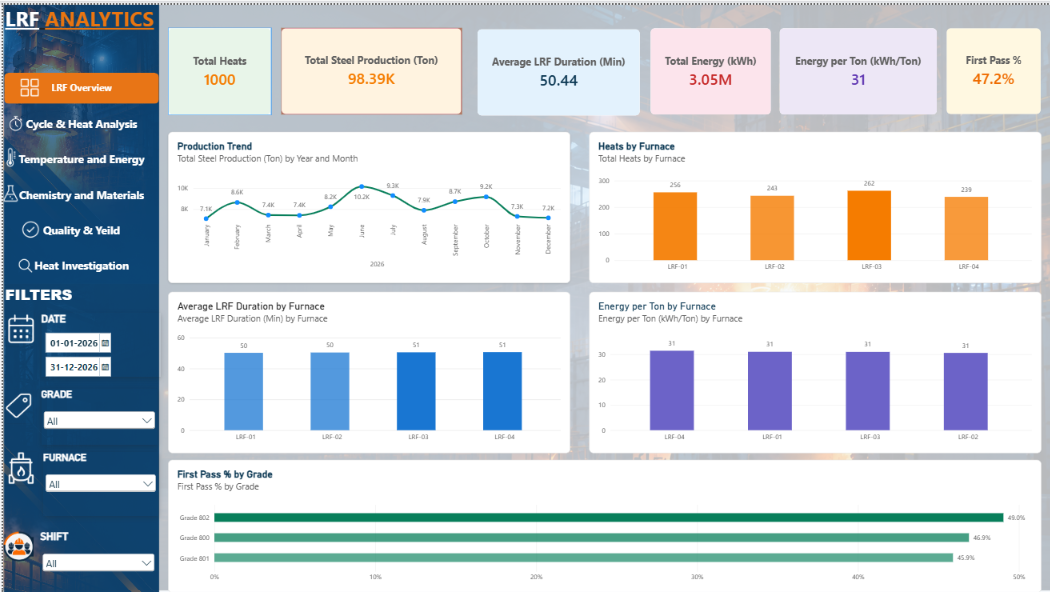

The dashboard page shown, as its layout file describes it:
{"tool":"powerbi","page":{"name":"LRF Overview","canvas":[1920,1080],"ordinal":0},"visuals":[{"type":"cardVisual","fields":{"Data":["Measures (2).Total Heats"]},"box":[303.4,42.3,189.4,160],"z":0},{"type":"cardVisual","fields":{"Data":["Measures (2).Total Steel Production (Ton)"]},"box":[509.9,42.2,332,159.6],"z":1000},{"type":"cardVisual","fields":{"Data":["Measures (2).Average LRF Duration (Min)"]},"box":[869.4,44,299.8,160],"z":2000},{"type":"cardVisual","fields":{"Data":["Measures (2).Total Energy (kWh)"]},"box":[1186.8,42.2,222.5,160],"z":3000},{"type":"cardVisual","fields":{"Data":["Measures (2).Energy per Ton (kWh/Ton)"]},"box":[1423.4,42.2,290.6,160],"z":4000},{"type":"cardVisual","fields":{"Data":["Measures (2).First Pass %"]},"box":[1729.7,42.2,174.3,159.6],"z":5000},{"type":"lineChart","title":"Production Trend","fields":{"Category":["Dim_Date.Date.Variation.Date Hierarchy.Year","Dim_Date.Date.Variation.Date Hierarchy.Month"],"Y":["Measures (2).Total Steel Production (Ton)"]},"box":[303.4,233.6,737.5,277.7],"z":6000},{"type":"clusteredColumnChart","title":"Heats by Furnace","fields":{"Category":["Dim_Furnance.Furnace"],"Y":["Measures (2).Total Heats"]},"box":[1074,233.6,829.4,277.7],"z":7000},{"type":"clusteredColumnChart","title":"Average LRF Duration by Furnace","fields":{"Category":["Dim_Furnance.Furnace"],"Y":["Measures (2).Average LRF Duration (Min)"]},"box":[303.4,526,737.5,296.1],"z":8000},{"type":"clusteredColumnChart","title":"Energy per Ton by Furnace","fields":{"Category":["Dim_Furnance.Furnace"],"Y":["Measures (2).Energy per Ton (kWh/Ton)"]},"box":[1074,526,829.4,296.1],"z":9000},{"type":"clusteredBarChart","title":"First Pass % by Grade","fields":{"Category":["DIm_Grade.Grade"],"Y":["Measures (2).First Pass %"]},"box":[302.7,834.6,1601.3,245.8],"z":10000},{"type":"textbox","box":[1.8,0,284.1,1080.4],"z":11000},{"type":"image","box":[0,0,286,1080.4],"z":12000},{"type":"textbox","box":[3.6,0,280.5,59.7],"z":14000},{"type":"pageNavigator","box":[1.8,124.7,284.3,387],"z":15000},{"type":"slicer","title":"DATE","fields":{"Values":["Dim_Date.Date"]},"box":[69.7,564.9,219,117.6],"z":16000},{"type":"slicer","title":" GRADE","fields":{"Values":["DIm_Grade.Grade"]},"box":[69.7,704.4,213.5,103.2],"z":17000},{"type":"slicer","title":"  FURNACE","fields":{"Values":["Dim_Furnance.Furnace"]},"box":[73.4,819.9,211.7,117.6],"z":18000},{"type":"textbox","box":[3.7,511.8,282.5,44],"z":19000},{"type":"image","box":[6,135,86.2,33],"z":20000},{"type":"image","box":[0,203,47.1,29],"z":21000},{"type":"image","box":[0,262,29,36],"z":22000},{"type":"image","box":[0,330.2,27.5,31.2],"z":23000},{"type":"image","box":[31,397,39,32],"z":24000},{"type":"image","box":[14,465,50.7,25.3],"z":25000},{"type":"image","box":[3.7,704.4,50,62],"z":26000},{"type":"image","box":[7.3,563.1,50,62],"z":27000},{"type":"image","box":[1.8,819.9,60.5,60.5],"z":28000},{"type":"slicer","title":"SHIFT","fields":{"Values":["Fact_Heat.Shift"]},"box":[67.9,964.4,214.6,115.6],"z":29000},{"type":"image","box":[0,964.8,56.9,58.7],"z":30000}]}

Visuals, with their boxes on the page's 1920x1080 design canvas (x1, y1, x2, y2). These are canvas units, not pixel positions in the 1050x592 screenshot, which may show the page scaled, cropped or inside an application window:
cardVisual - Measures (2).Total Heats: [left=303, top=42, right=493, bottom=202]
cardVisual - Measures (2).Total Steel Production (Ton): [left=510, top=42, right=842, bottom=202]
cardVisual - Measures (2).Average LRF Duration (Min): [left=869, top=44, right=1169, bottom=204]
cardVisual - Measures (2).Total Energy (kWh): [left=1187, top=42, right=1409, bottom=202]
cardVisual - Measures (2).Energy per Ton (kWh/Ton): [left=1423, top=42, right=1714, bottom=202]
cardVisual - Measures (2).First Pass %: [left=1730, top=42, right=1904, bottom=202]
"Production Trend" lineChart: [left=303, top=234, right=1041, bottom=511]
"Heats by Furnace" clusteredColumnChart: [left=1074, top=234, right=1903, bottom=511]
"Average LRF Duration by Furnace" clusteredColumnChart: [left=303, top=526, right=1041, bottom=822]
"Energy per Ton by Furnace" clusteredColumnChart: [left=1074, top=526, right=1903, bottom=822]
"First Pass % by Grade" clusteredBarChart: [left=303, top=835, right=1904, bottom=1080]
textbox: [left=2, top=0, right=286, bottom=1080]
image: [left=0, top=0, right=286, bottom=1080]
textbox: [left=4, top=0, right=284, bottom=60]
pageNavigator: [left=2, top=125, right=286, bottom=512]
"DATE" slicer: [left=70, top=565, right=289, bottom=682]
" GRADE" slicer: [left=70, top=704, right=283, bottom=808]
"  FURNACE" slicer: [left=73, top=820, right=285, bottom=938]
textbox: [left=4, top=512, right=286, bottom=556]
image: [left=6, top=135, right=92, bottom=168]
image: [left=0, top=203, right=47, bottom=232]
image: [left=0, top=262, right=29, bottom=298]
image: [left=0, top=330, right=28, bottom=361]
image: [left=31, top=397, right=70, bottom=429]
image: [left=14, top=465, right=65, bottom=490]
image: [left=4, top=704, right=54, bottom=766]
image: [left=7, top=563, right=57, bottom=625]
image: [left=2, top=820, right=62, bottom=880]
"SHIFT" slicer: [left=68, top=964, right=282, bottom=1080]
image: [left=0, top=965, right=57, bottom=1024]
